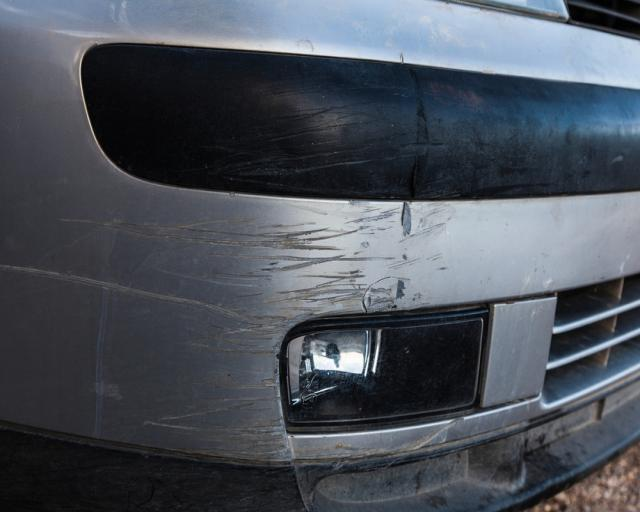scratch: (0, 196, 469, 462), (212, 90, 409, 178)
